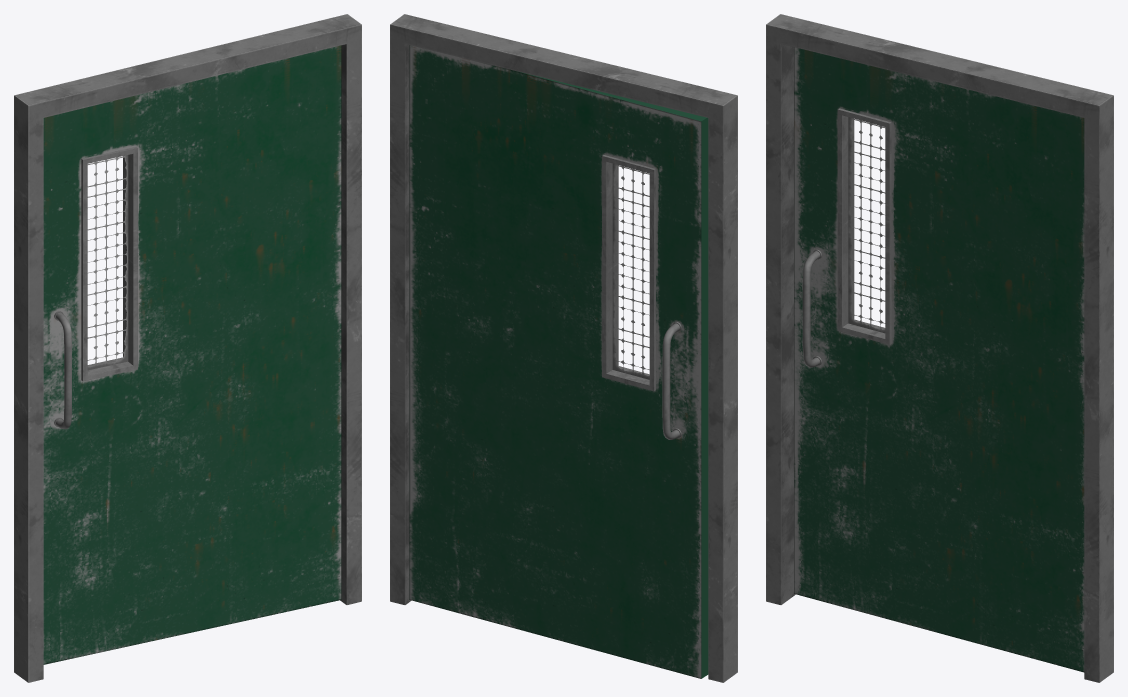
Rendered from HospitalDoorTV2.fbx.
3 views of the same model, side by side, from view 1: azimuth 30°, elevation 25°; view 2: azimuth 150°, elevation 25°; view 3: azimuth 330°, elevation 25° (orthographic).
Visible parts, largest first — view 1: Glass, Cube; view 2: Glass, Cube; view 3: Glass, Cube.
Boxes of the visible parts, box(x1,y1,x2,y2) form: Glass: box(43, 45, 341, 664); Cube: box(14, 14, 361, 682); Glass: box(409, 45, 708, 678); Cube: box(390, 14, 737, 682); Glass: box(794, 47, 1084, 672); Cube: box(766, 14, 1113, 682).
Size of the model in its own units: 209 by 346 by 35.57.
1 material, 1 textured.
